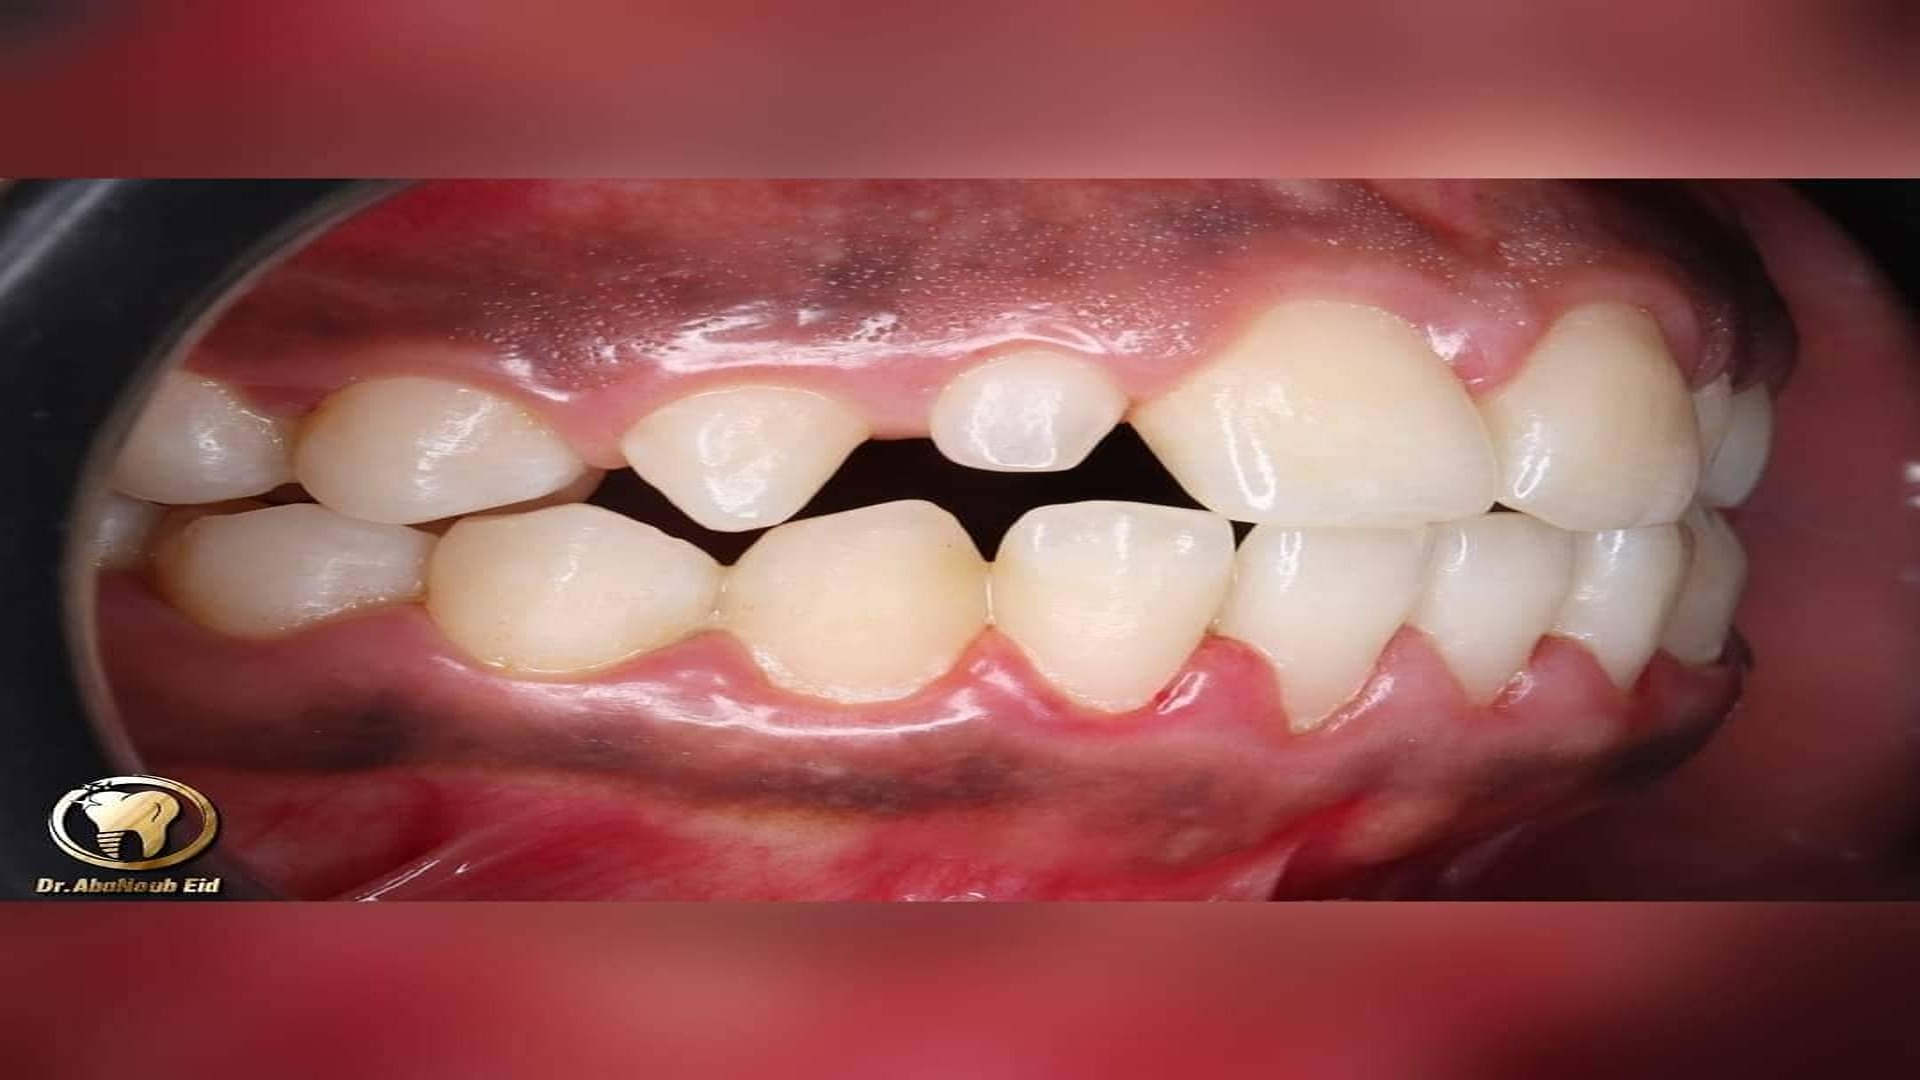tooth: (1127, 299, 1499, 527), (723, 500, 988, 704), (992, 500, 1236, 713), (429, 502, 725, 676), (1478, 302, 1700, 531), (1211, 525, 1427, 735), (291, 376, 585, 525), (148, 502, 438, 640), (620, 385, 870, 531), (1407, 512, 1575, 705), (928, 347, 1137, 472), (113, 371, 294, 504), (1551, 524, 1695, 690), (1663, 501, 1747, 665)
